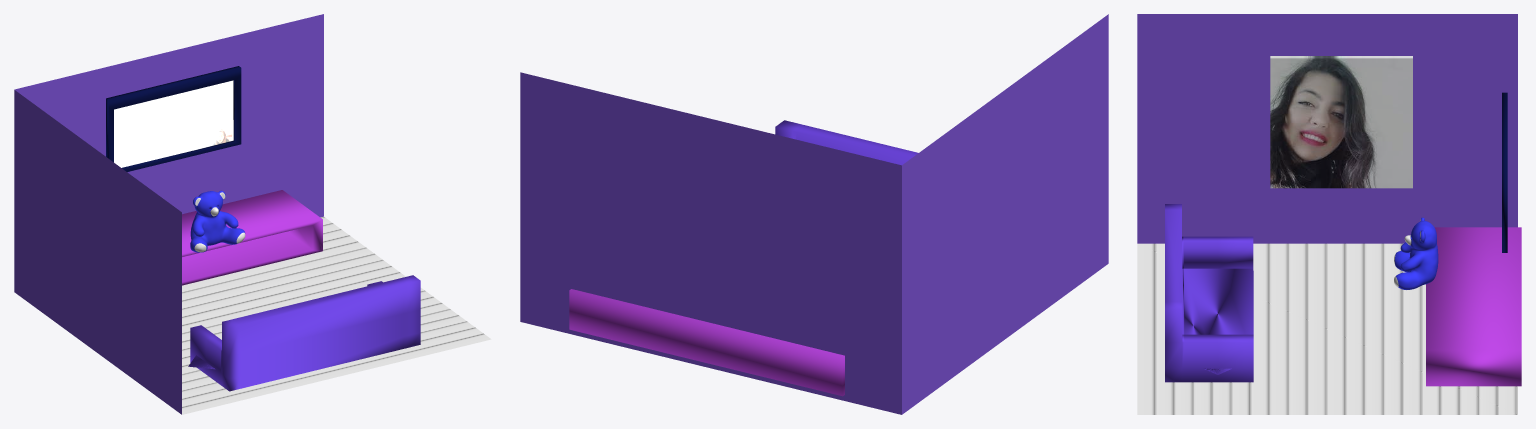
The model's file is myroom.glb.
3 renders of one model, left to right at view 1: azimuth 30°, elevation 25°; view 2: azimuth 150°, elevation 25°; view 3: azimuth 270°, elevation 25°, orthographic. The views are drawn at different scales.
Parts seen in each view (by area): view 1: Plane, Plane.001, Plane.002, Plane.003, Plane.005; view 2: Plane, Plane.003, Plane.001; view 3: Plane, me, Plane.003, Plane.001, Plane.005, Plane.002.
Boxes of the visible parts, <box> form: Plane: <box>14,14,491,414</box>; Plane.001: <box>188,275,420,391</box>; Plane.002: <box>106,66,241,171</box>; Plane.003: <box>182,190,322,285</box>; Plane.005: <box>190,190,245,252</box>; Plane: <box>520,14,1108,414</box>; Plane.003: <box>569,289,844,396</box>; Plane.001: <box>775,120,918,165</box>; Plane: <box>1137,14,1517,414</box>; me: <box>1270,56,1412,188</box>; Plane.003: <box>1426,227,1521,386</box>; Plane.001: <box>1165,204,1253,382</box>; Plane.005: <box>1394,217,1438,289</box>; Plane.002: <box>1502,92,1507,252</box>.
Size of what is drawn, in the model's own units: 8.48 by 5.48 by 8.04.
Materials: 9 (2 with a texture image).
